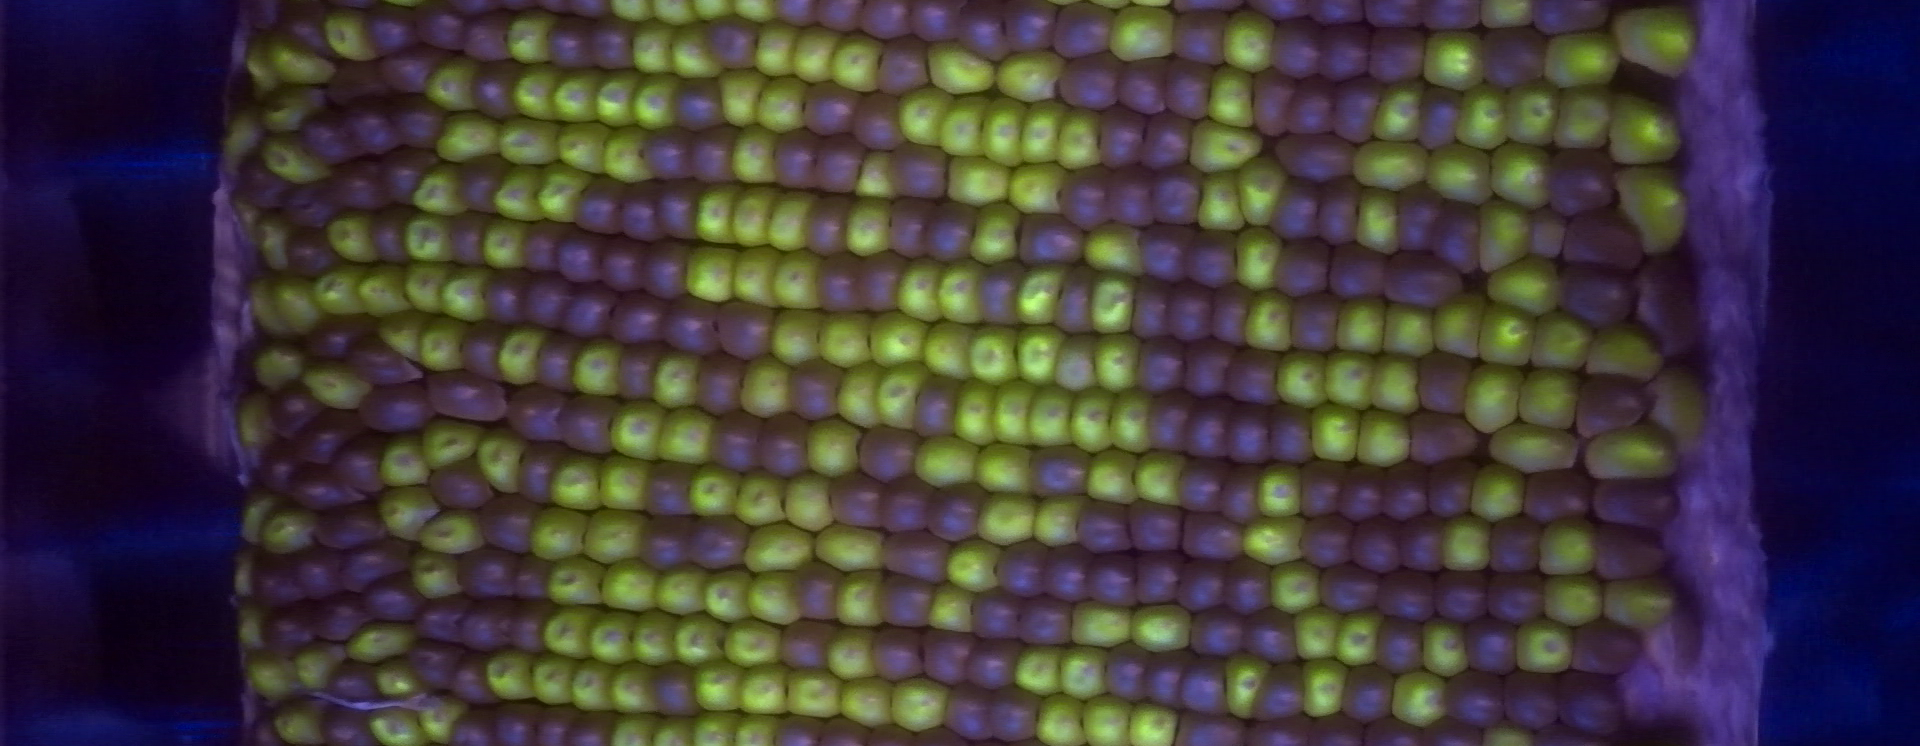fluorescent: (1608, 160, 1693, 258), (1607, 2, 1704, 82), (1603, 85, 1689, 171), (1640, 360, 1714, 458), (1581, 423, 1686, 484), (1581, 316, 1669, 383), (1482, 135, 1558, 212), (1485, 419, 1584, 477), (1538, 28, 1622, 96), (1184, 114, 1269, 180), (991, 42, 1076, 107), (1418, 140, 1498, 209), (261, 22, 343, 89), (1458, 358, 1527, 437), (1233, 148, 1298, 232), (1482, 251, 1565, 316), (1414, 23, 1491, 93), (1348, 134, 1438, 194), (1472, 196, 1537, 278), (1078, 218, 1157, 284), (1511, 360, 1581, 435), (923, 36, 1003, 100), (1473, 298, 1545, 369), (1596, 573, 1684, 631), (1011, 89, 1074, 170), (891, 80, 962, 151), (604, 394, 673, 467), (934, 82, 996, 164), (962, 318, 1029, 394), (1524, 307, 1600, 374), (255, 127, 338, 187), (1011, 256, 1078, 331), (1104, 2, 1180, 67), (890, 251, 953, 330), (1499, 77, 1566, 149), (407, 156, 480, 222), (1373, 294, 1447, 359), (1549, 81, 1614, 156), (432, 105, 509, 168), (300, 356, 378, 418), (651, 403, 722, 470), (825, 26, 891, 98), (473, 421, 533, 501), (977, 93, 1036, 174), (807, 523, 895, 577), (1237, 281, 1299, 356), (909, 431, 984, 494), (933, 254, 994, 331), (411, 503, 493, 561), (1349, 180, 1407, 262), (418, 51, 489, 118), (1510, 614, 1581, 680), (1531, 513, 1602, 579), (964, 198, 1029, 271), (940, 151, 1018, 211), (887, 670, 956, 736), (1424, 292, 1494, 358), (680, 236, 744, 307), (1220, 2, 1282, 76), (713, 59, 775, 132), (1227, 223, 1289, 296), (1237, 510, 1310, 572), (485, 160, 553, 227), (373, 480, 442, 546), (798, 416, 868, 481), (493, 108, 566, 170), (535, 159, 598, 232), (1009, 318, 1071, 391), (830, 361, 891, 435), (871, 359, 932, 432), (240, 268, 296, 348), (493, 321, 560, 388), (1385, 665, 1453, 730), (1352, 402, 1416, 472), (1452, 80, 1515, 151), (738, 350, 800, 423), (541, 550, 613, 611), (948, 375, 1004, 453), (838, 189, 898, 262), (864, 307, 938, 367), (340, 612, 420, 668), (431, 262, 500, 326), (579, 506, 648, 570), (1367, 76, 1429, 146), (647, 343, 708, 414), (1202, 61, 1262, 134), (726, 243, 786, 315), (1082, 267, 1142, 339), (416, 414, 489, 474), (768, 240, 827, 314), (1048, 328, 1107, 402), (1124, 598, 1198, 657), (1327, 293, 1393, 358), (973, 486, 1041, 550), (737, 523, 820, 575), (1319, 344, 1381, 413), (762, 185, 823, 255), (686, 180, 747, 250), (524, 503, 594, 565), (1067, 380, 1119, 461), (353, 260, 419, 323), (585, 603, 649, 669), (1464, 461, 1531, 524), (566, 333, 628, 401), (1438, 510, 1499, 578), (988, 372, 1041, 452), (509, 58, 569, 127), (1004, 158, 1074, 218), (269, 269, 329, 339), (1194, 167, 1253, 238), (1103, 383, 1157, 461), (1079, 443, 1142, 508), (598, 121, 660, 187), (1129, 443, 1191, 510), (749, 71, 811, 138), (1272, 345, 1333, 413), (666, 608, 733, 669), (1025, 379, 1080, 453), (1368, 350, 1428, 419), (1051, 100, 1109, 170), (816, 309, 879, 372), (1029, 486, 1092, 550), (624, 69, 687, 134), (320, 205, 382, 269), (545, 450, 607, 514), (320, 4, 386, 65), (544, 66, 610, 127), (257, 81, 331, 136), (596, 554, 662, 615), (829, 567, 890, 633), (593, 66, 653, 134), (940, 537, 1008, 597), (1054, 638, 1114, 706), (969, 439, 1037, 497), (1539, 571, 1609, 628), (500, 7, 563, 70), (767, 304, 829, 367), (396, 256, 459, 318), (553, 115, 615, 180), (920, 317, 980, 383), (596, 451, 656, 517), (1064, 599, 1141, 650), (1089, 328, 1147, 396), (741, 570, 808, 628), (1222, 650, 1276, 724), (726, 181, 784, 250), (1416, 610, 1472, 680), (667, 18, 729, 82), (789, 21, 849, 86), (309, 261, 373, 321), (1251, 456, 1311, 521), (733, 465, 793, 530), (781, 661, 846, 722), (253, 501, 320, 559), (782, 465, 838, 534), (249, 205, 299, 279), (684, 458, 744, 521), (218, 104, 266, 183), (1010, 641, 1074, 699), (729, 122, 786, 187), (1307, 401, 1364, 465), (373, 306, 430, 372), (373, 431, 433, 492), (838, 670, 898, 731), (627, 608, 686, 670), (249, 338, 312, 396), (649, 563, 715, 619), (1297, 653, 1349, 722), (822, 624, 882, 684), (474, 212, 533, 273), (735, 663, 796, 722), (721, 615, 784, 673), (749, 16, 803, 82), (1291, 599, 1344, 665), (1265, 559, 1324, 619), (699, 566, 758, 626), (231, 388, 283, 457), (626, 16, 682, 78), (400, 206, 457, 268), (291, 636, 347, 699), (1078, 691, 1141, 746), (362, 699, 437, 746), (688, 657, 746, 717), (415, 314, 471, 375), (920, 579, 981, 636), (538, 606, 599, 663), (482, 647, 541, 704), (247, 649, 307, 706), (415, 690, 475, 746), (407, 548, 468, 603), (234, 484, 287, 548), (222, 185, 274, 247), (847, 145, 905, 201), (527, 653, 584, 709), (1032, 691, 1091, 746), (1122, 697, 1187, 746), (609, 660, 662, 719), (264, 701, 334, 746), (370, 650, 430, 701), (240, 29, 279, 100), (566, 661, 615, 712), (604, 708, 659, 746), (228, 548, 263, 605), (684, 709, 740, 746), (1477, 717, 1545, 746), (647, 710, 702, 746), (1476, 1, 1539, 32), (729, 712, 784, 746), (233, 601, 268, 653)
nonfluorescent: (1561, 263, 1638, 328), (1640, 254, 1695, 339), (1594, 523, 1668, 584), (1566, 207, 1642, 265), (1544, 147, 1611, 209), (430, 367, 507, 419), (1591, 478, 1678, 522), (1558, 674, 1621, 733), (1414, 345, 1471, 412), (298, 107, 362, 163), (1273, 134, 1356, 178), (926, 198, 980, 265), (1248, 660, 1305, 722), (1382, 257, 1456, 304), (1573, 624, 1642, 673), (860, 425, 918, 481), (1021, 211, 1082, 265), (1524, 472, 1593, 519), (386, 96, 444, 151), (662, 298, 718, 356), (564, 393, 618, 453), (758, 415, 812, 475), (876, 36, 928, 97), (1060, 51, 1123, 103), (1322, 247, 1387, 296), (1447, 671, 1504, 728), (360, 2, 418, 58), (1015, 597, 1074, 650), (1438, 198, 1479, 274), (1074, 501, 1131, 555), (313, 501, 378, 549), (1084, 549, 1136, 608), (376, 49, 449, 91), (899, 142, 948, 205), (1332, 77, 1380, 141), (1412, 416, 1476, 464), (718, 303, 774, 356), (328, 168, 397, 212), (506, 387, 564, 439), (877, 577, 936, 628), (1140, 110, 1190, 170), (1580, 379, 1640, 429), (1184, 341, 1233, 402), (1182, 511, 1243, 560), (1487, 31, 1540, 86), (877, 478, 931, 533), (480, 500, 536, 552), (789, 359, 840, 416), (1277, 238, 1327, 296), (1054, 266, 1097, 334), (1180, 658, 1229, 718), (912, 375, 959, 437), (1131, 550, 1185, 604), (945, 685, 999, 739), (460, 597, 516, 649), (1142, 225, 1193, 283), (1318, 176, 1360, 244), (1488, 517, 1540, 571), (1058, 4, 1109, 59), (1291, 295, 1342, 350), (993, 541, 1048, 593), (1282, 76, 1332, 132), (238, 151, 288, 207), (710, 410, 760, 467), (855, 87, 904, 145), (1163, 59, 1211, 118), (876, 624, 923, 682), (834, 468, 880, 528), (1374, 615, 1420, 675), (1316, 562, 1378, 608), (806, 80, 857, 134), (613, 289, 665, 343), (332, 431, 381, 488), (698, 345, 740, 412), (1153, 167, 1200, 225), (342, 545, 400, 592), (811, 190, 853, 254), (1134, 343, 1185, 396), (936, 485, 983, 541), (1468, 617, 1516, 674), (923, 628, 971, 685), (267, 380, 313, 437), (1228, 554, 1271, 616), (1123, 58, 1168, 116), (1347, 661, 1392, 720), (462, 154, 506, 214), (890, 198, 934, 258), (1149, 390, 1193, 450), (1376, 469, 1429, 519), (1300, 516, 1349, 570), (263, 604, 312, 658), (959, 5, 1007, 60), (689, 518, 744, 566), (1376, 568, 1431, 616), (580, 175, 623, 236), (884, 533, 949, 573), (1325, 26, 1371, 82), (525, 272, 571, 330), (1044, 544, 1090, 601), (534, 336, 576, 398), (1273, 18, 1318, 77), (1365, 33, 1424, 77), (1176, 459, 1227, 510), (253, 554, 304, 605), (1130, 503, 1183, 552), (1176, 555, 1224, 608), (1433, 571, 1487, 619), (516, 222, 562, 277), (1353, 519, 1400, 575), (361, 390, 429, 428), (567, 282, 612, 338), (793, 562, 839, 619), (694, 124, 736, 185), (659, 175, 698, 240), (296, 550, 347, 600), (431, 465, 490, 508), (672, 76, 725, 124), (1188, 230, 1236, 283), (408, 643, 460, 691), (1271, 183, 1318, 236), (1107, 639, 1149, 699), (1031, 450, 1086, 495), (819, 137, 860, 198), (1226, 403, 1266, 464), (1151, 646, 1191, 707), (1397, 185, 1435, 250), (640, 517, 689, 567), (282, 180, 329, 232), (1231, 352, 1278, 403), (782, 621, 834, 669), (598, 233, 644, 285), (616, 341, 658, 399), (348, 104, 402, 149), (1488, 577, 1542, 622), (1174, 712, 1248, 745), (707, 18, 757, 66), (382, 157, 432, 205), (1191, 608, 1242, 655), (1422, 82, 1457, 149), (1065, 167, 1106, 225), (1109, 165, 1153, 219), (996, 688, 1040, 742), (474, 62, 517, 118), (620, 181, 662, 236), (1255, 65, 1289, 134), (863, 251, 899, 317), (818, 256, 860, 312), (973, 590, 1020, 641), (1269, 405, 1309, 463), (459, 549, 512, 593), (547, 11, 590, 65), (485, 267, 528, 321), (1242, 615, 1296, 658), (415, 1, 463, 49), (1100, 105, 1140, 162), (317, 314, 373, 354), (517, 442, 557, 499), (644, 464, 689, 514), (285, 473, 354, 506), (557, 225, 600, 278), (778, 129, 817, 186), (1431, 461, 1473, 514), (1401, 518, 1442, 572), (591, 17, 632, 72), (1302, 461, 1342, 516), (1131, 276, 1166, 341), (1176, 13, 1222, 61), (1007, 2, 1052, 51), (640, 243, 684, 293), (253, 447, 311, 485), (1167, 282, 1207, 336), (419, 597, 467, 642), (465, 11, 509, 60), (334, 61, 389, 100), (1212, 283, 1251, 337), (305, 412, 349, 459), (1507, 673, 1551, 720), (1344, 465, 1382, 521), (358, 342, 409, 382), (462, 322, 504, 370), (513, 550, 549, 608), (287, 228, 324, 281), (1533, 2, 1607, 29), (650, 127, 691, 176), (1188, 398, 1224, 452), (654, 664, 693, 714), (1223, 464, 1256, 522), (973, 639, 1008, 695), (317, 598, 362, 639), (909, 1, 955, 42), (331, 660, 373, 703), (513, 601, 555, 646), (452, 657, 489, 706), (365, 578, 415, 614), (285, 12, 331, 51), (373, 213, 407, 266), (989, 265, 1019, 322), (862, 1, 909, 36), (493, 703, 531, 745), (572, 709, 615, 745), (1367, 4, 1419, 31), (1422, 2, 1483, 24), (456, 214, 486, 258), (451, 712, 492, 744), (769, 1, 818, 27), (539, 708, 577, 741), (819, 2, 858, 34), (1315, 2, 1364, 24), (321, 710, 365, 734)
